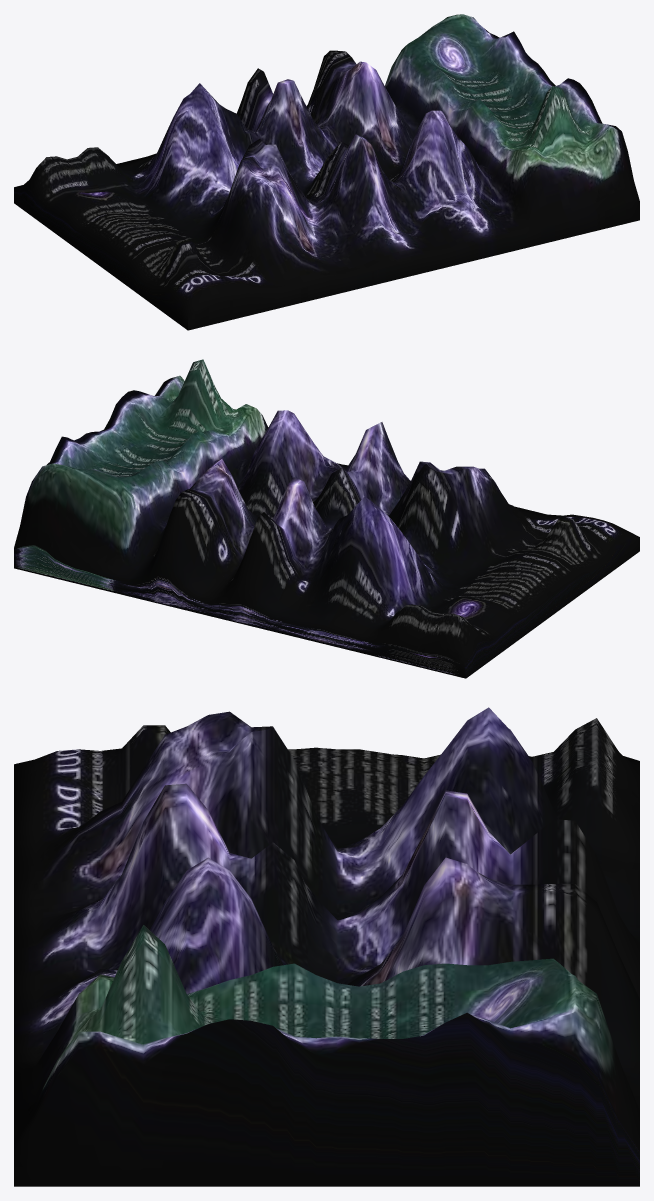
Rendered from CUL_54_Soul_Cultivation.glb.
The picture shows the model from 3 angles, top to bottom: view 1: azimuth 30°, elevation 25°; view 2: azimuth 150°, elevation 25°; view 3: azimuth 270°, elevation 25°; orthographic projection. The views are drawn at different scales.
Visible parts, largest first — view 1: CUL_54_Soul_Cultivation; view 2: CUL_54_Soul_Cultivation; view 3: CUL_54_Soul_Cultivation.
Part boxes in pixels (x1,y1,x2,y2): CUL_54_Soul_Cultivation: [14, 14, 639, 330]; CUL_54_Soul_Cultivation: [14, 359, 639, 678]; CUL_54_Soul_Cultivation: [14, 707, 639, 1186].
Size of the model in its own units: 2 by 0.51 by 1.33.
1 material, 1 textured.
